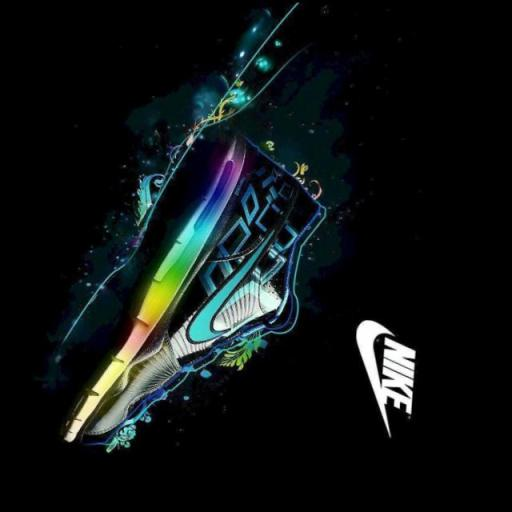Nike: (348, 316, 386, 426), (375, 336, 419, 418)
